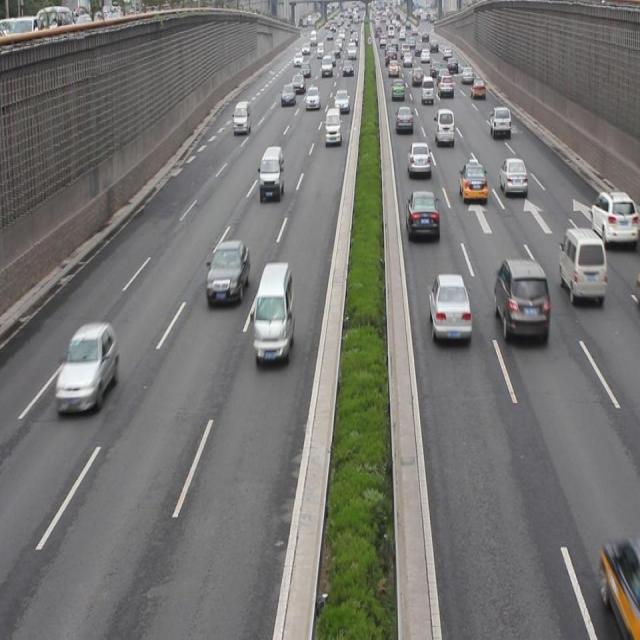car: (55, 322, 118, 414), (493, 257, 548, 345), (428, 276, 470, 343), (588, 193, 640, 242), (206, 242, 248, 300), (404, 189, 438, 239), (458, 158, 486, 204), (498, 154, 526, 198), (405, 138, 431, 181), (489, 105, 509, 134), (395, 106, 411, 130)
truck: (252, 261, 293, 361), (559, 226, 604, 304), (258, 146, 284, 198), (324, 107, 341, 148), (435, 106, 453, 144), (232, 102, 250, 134)
